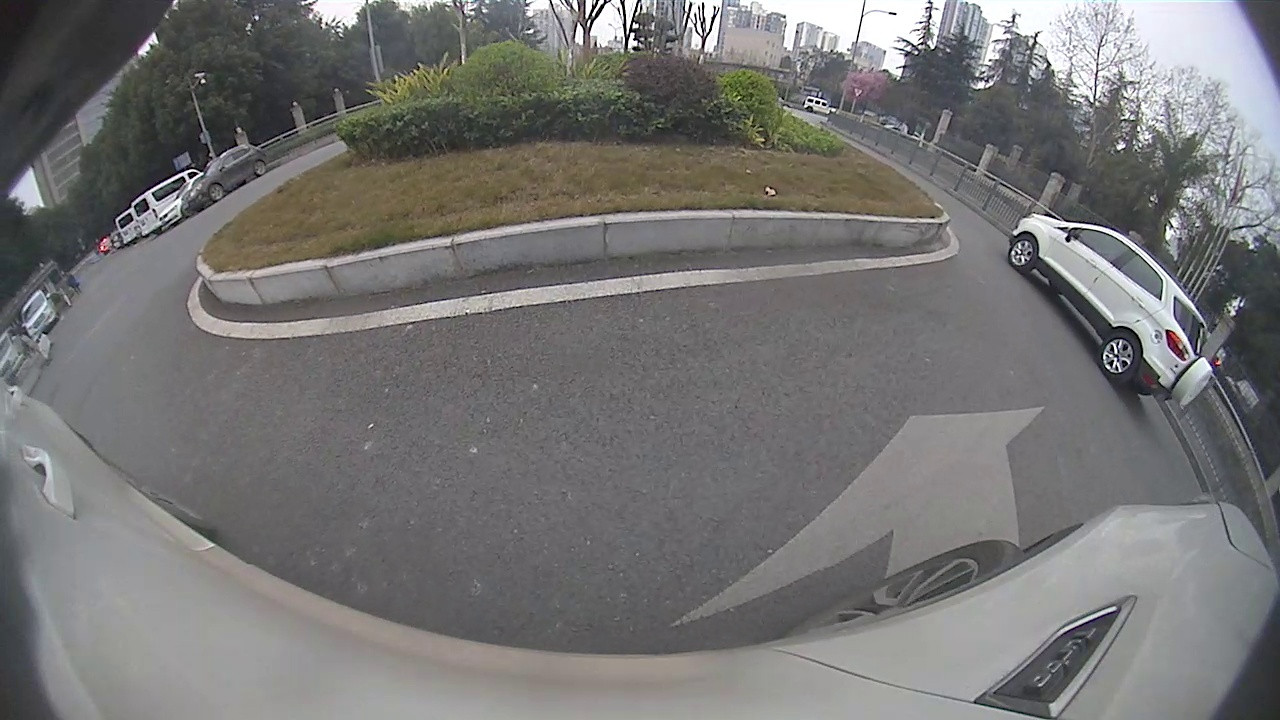car: (1009, 212, 1213, 409), (183, 144, 270, 211), (131, 170, 208, 237), (21, 290, 57, 337)
front: (1007, 235, 1039, 269), (206, 184, 224, 201)
rear: (1098, 329, 1141, 381), (252, 160, 267, 176)
